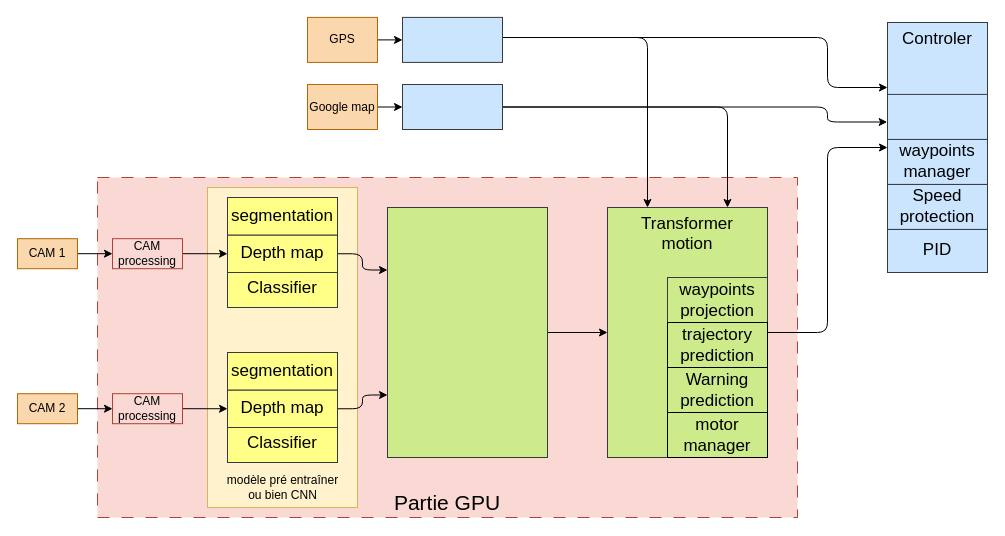
Image size: 1005x536. Some labels were removed from this diagram. The centre of each missing label's shape, as x and y in pixels:
processing GPS: (452,39)
processing waypoints: (452,107)
sensor manager: (937,116)
Transformer Vision: (467,332)
